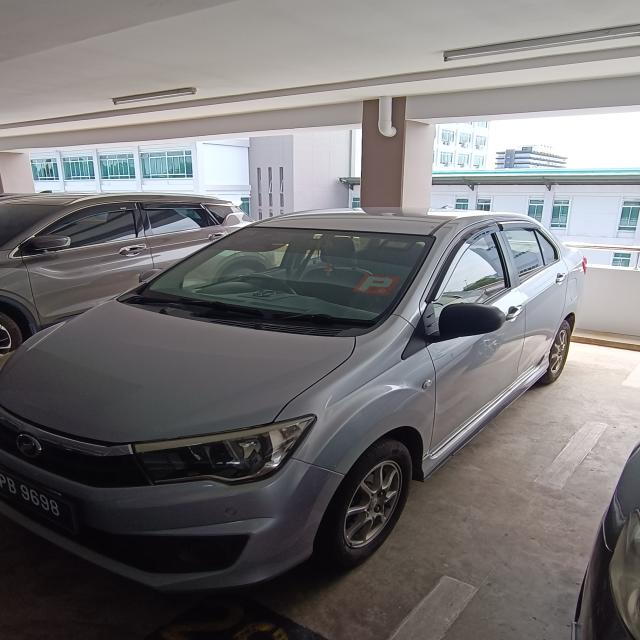PeroduaBezza: (1, 205, 588, 592)
